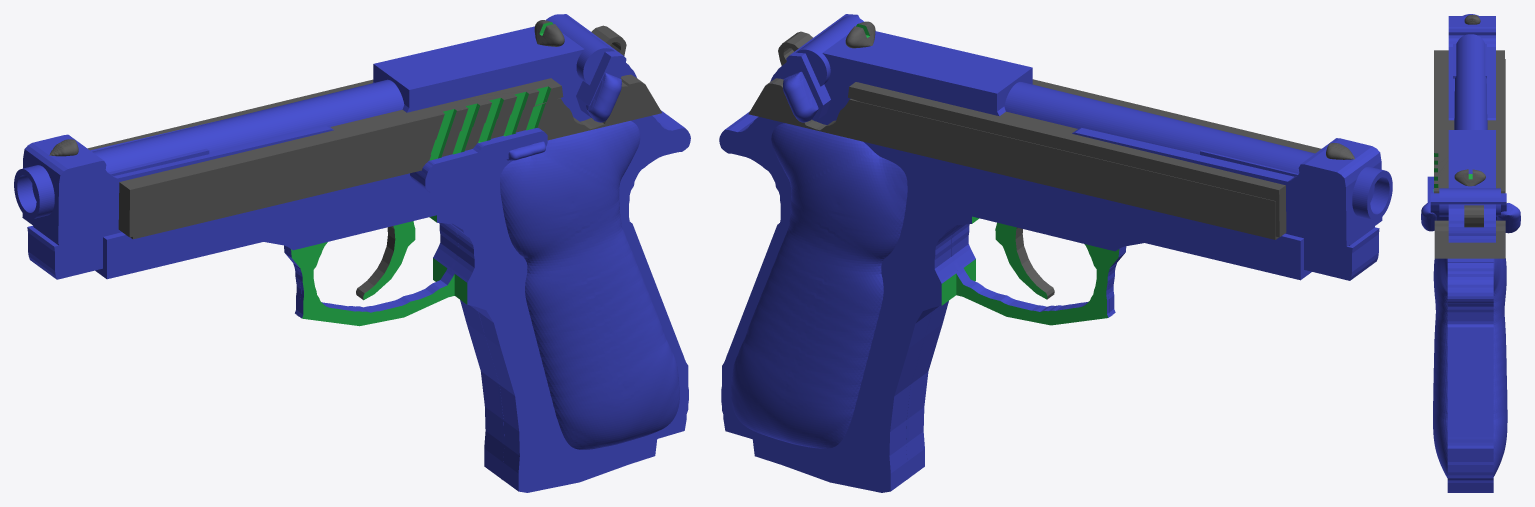
Rendered from KITCHENGUN.glb.
3 renders of one model, left to right at view 1: azimuth 30°, elevation 25°; view 2: azimuth 150°, elevation 25°; view 3: azimuth 270°, elevation 25°, orthographic. The views are drawn at different scales.
Bounding box in the file's own units: 1.22 × 0.8127 × 0.2459.
Materials: 4 (3 with a texture image).
